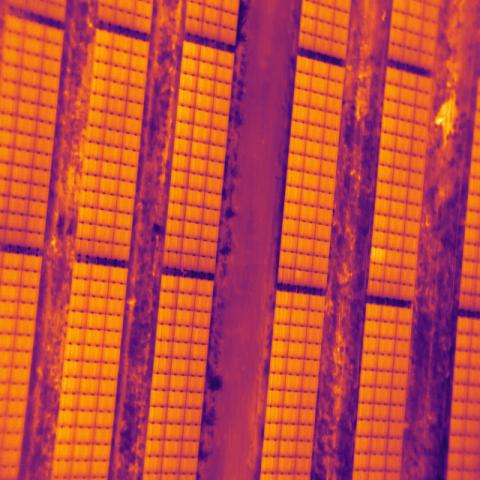fault: (370, 246, 386, 266)
